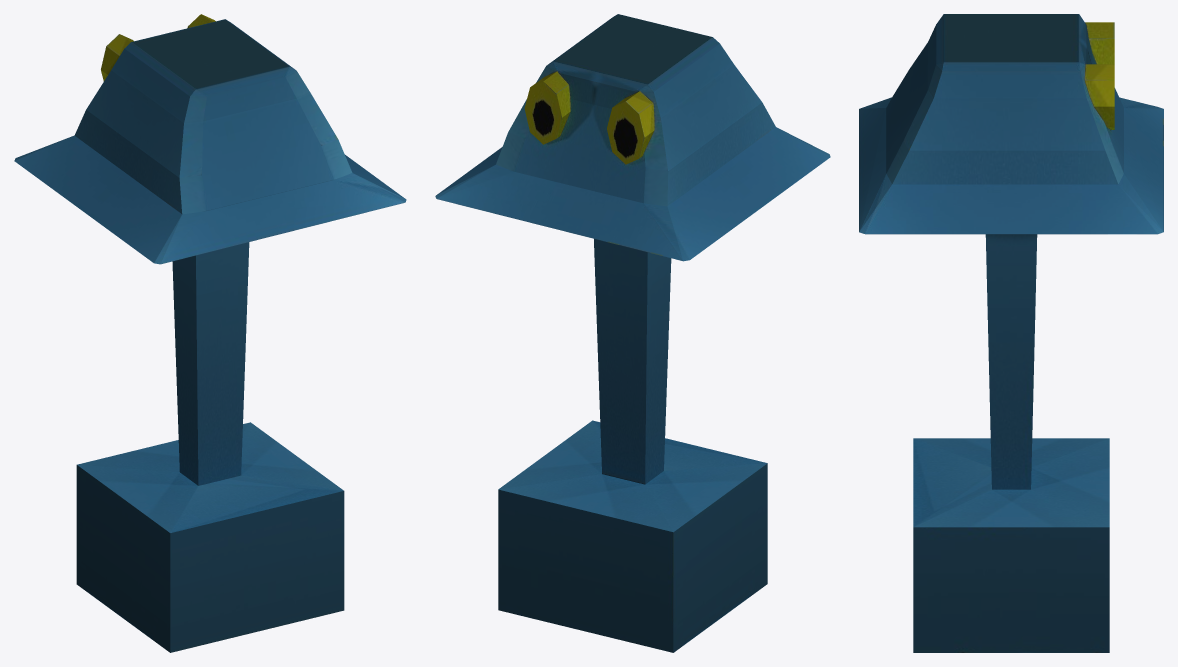
Rendered from baker7.dae.
The picture shows the model from 3 angles, left to right: view 1: azimuth 30°, elevation 25°; view 2: azimuth 150°, elevation 25°; view 3: azimuth 270°, elevation 25°; orthographic projection. The views are drawn at different scales.
Parts seen in each view (by area): view 1: baker; view 2: baker; view 3: baker.
Boxes of the visible parts, bbox=[...] form: baker: bbox=[14, 14, 406, 652]; baker: bbox=[435, 14, 830, 652]; baker: bbox=[859, 14, 1163, 652].
Size of the model in its own units: 2.01 by 2 by 4.13.
1 material, 1 textured.
